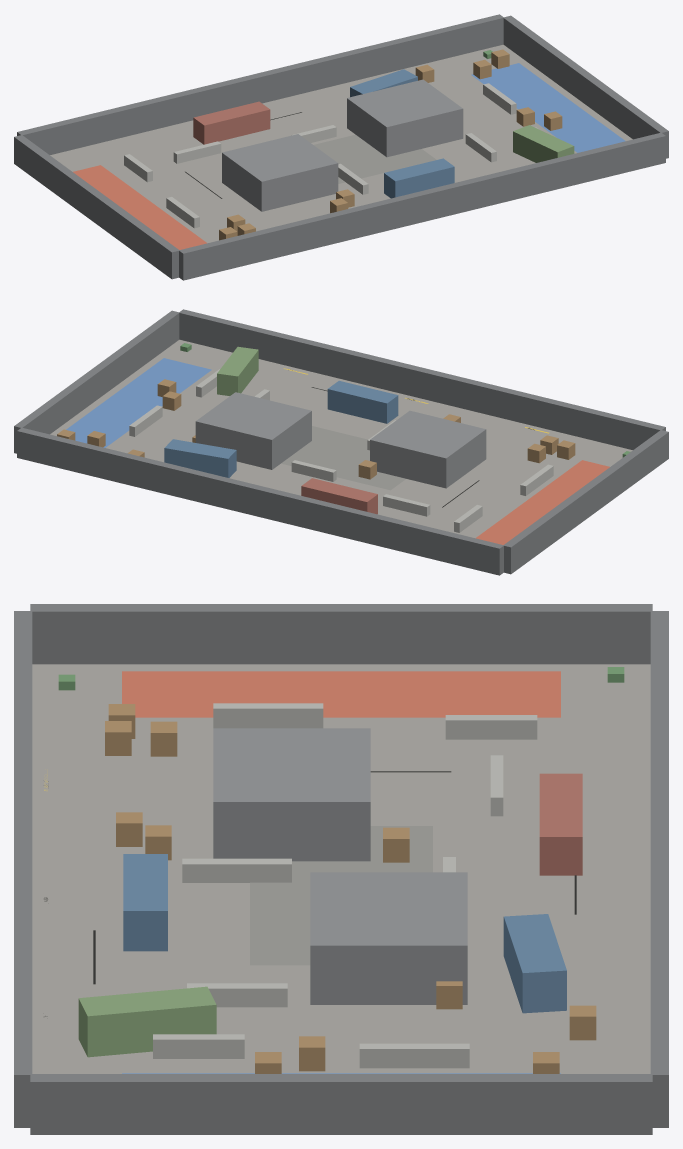
File: industrial_arena.glb
3 renders of one model, top to bottom at view 1: azimuth 30°, elevation 25°; view 2: azimuth 150°, elevation 25°; view 3: azimuth 270°, elevation 25°, orthographic. The views are drawn at different scales.
Visible parts, largest first — view 1: floor_main, wall_north, wall_south, warehouse_right, warehouse_left, wall_west, wall_east, spawn_zone_b_floor, spawn_zone_a_floor, floor_center_wear, container_bottom_red, container_top_blue (+9 smaller); view 2: floor_main, wall_south, wall_north, warehouse_left, warehouse_right, wall_west, wall_east, spawn_zone_b_floor, floor_center_wear, spawn_zone_a_floor, container_top_blue, container_bottom_blue (+7 smaller); view 3: floor_main, wall_east, wall_west, warehouse_left, warehouse_right, spawn_zone_a_floor, wall_north, wall_south, floor_center_wear, container_green_flank, container_bottom_blue, container_bottom_red (+16 smaller).
Part boxes in pixels (left/top/right/bottom): floor_main: left=50, top=44, right=632, bottom=243; wall_north: left=179, top=132, right=665, bottom=280; wall_south: left=17, top=14, right=503, bottom=154; warehouse_right: left=347, top=79, right=463, bottom=157; warehouse_left: left=222, top=134, right=338, bottom=211; wall_west: left=14, top=135, right=178, bottom=279; wall_east: left=503, top=15, right=668, bottom=158; spawn_zone_b_floor: left=471, top=63, right=625, bottom=152; spawn_zone_a_floor: left=73, top=165, right=206, bottom=249; floor_center_wear: left=314, top=134, right=436, bottom=183; container_bottom_red: left=193, top=101, right=270, bottom=144; container_top_blue: left=384, top=158, right=454, bottom=198; floor_main: left=50, top=339, right=632, bottom=538; wall_south: left=17, top=427, right=503, bottom=575; wall_north: left=179, top=309, right=665, bottom=449; warehouse_left: left=370, top=410, right=486, bottom=488; warehouse_right: left=195, top=392, right=311, bottom=469; wall_west: left=503, top=430, right=668, bottom=574; wall_east: left=14, top=310, right=179, bottom=453; spawn_zone_b_floor: left=66, top=358, right=211, bottom=447; floor_center_wear: left=281, top=426, right=405, bottom=490; spawn_zone_a_floor: left=476, top=460, right=609, bottom=544; container_top_blue: left=327, top=380, right=398, bottom=423; container_bottom_blue: left=164, top=439, right=236, bottom=477; floor_main: left=32, top=664, right=650, bottom=1073; wall_east: left=30, top=1074, right=652, bottom=1134; wall_west: left=30, top=604, right=652, bottom=664; warehouse_left: left=213, top=728, right=370, bottom=861; warehouse_right: left=310, top=872, right=467, bottom=1004; spawn_zone_a_floor: left=122, top=671, right=560, bottom=717; wall_north: left=14, top=611, right=32, bottom=1127; wall_south: left=650, top=611, right=668, bottom=1127; floor_center_wear: left=250, top=826, right=432, bottom=965; container_green_flank: left=78, top=986, right=216, bottom=1057; container_bottom_blue: left=503, top=914, right=566, bottom=1013; container_bottom_red: left=539, top=773, right=582, bottom=875.
Size of the model in its own units: 61.8 by 3.6 by 35.8.
